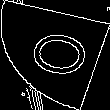O_E: (17, 26, 93, 84)
